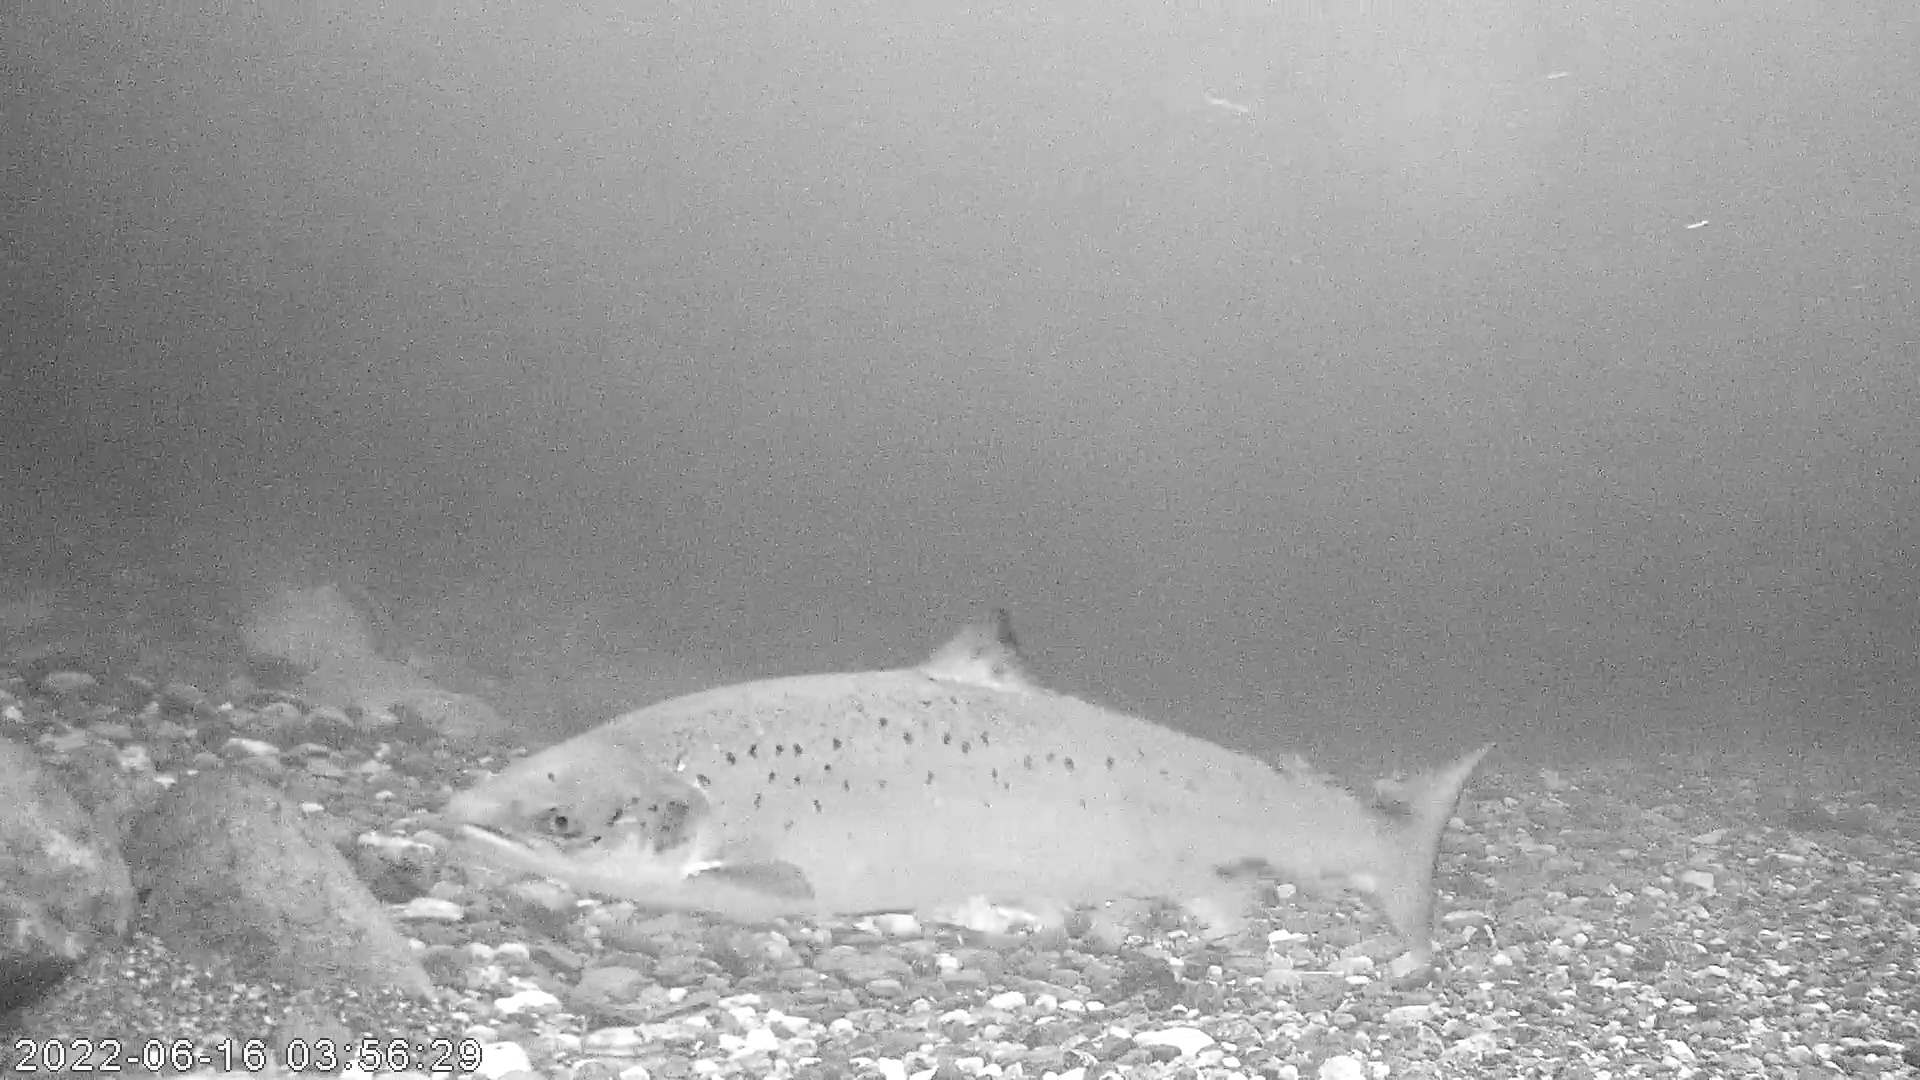salmon: (444, 605, 1499, 963)
